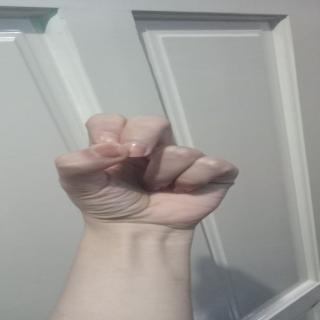QAAF: (50, 103, 248, 224)
